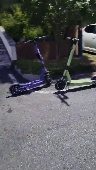beam: (8, 35, 53, 95)
gcooter: (54, 34, 96, 90)
